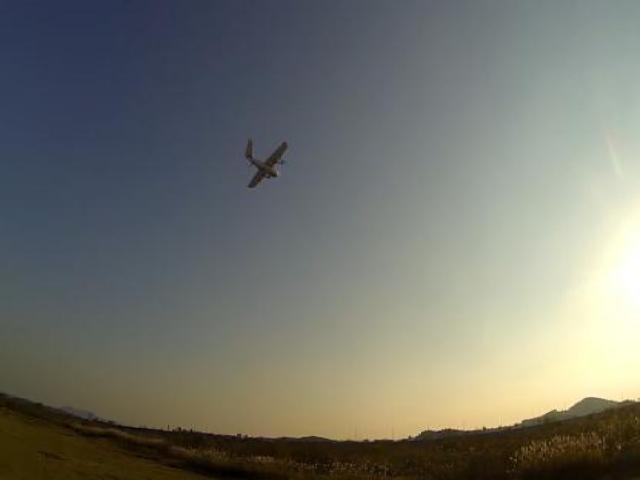uav: (238, 130, 299, 195)
